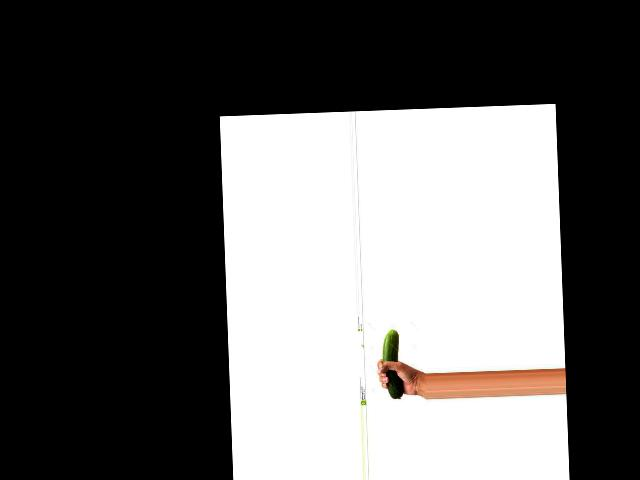cucumber: (380, 329, 402, 398)
